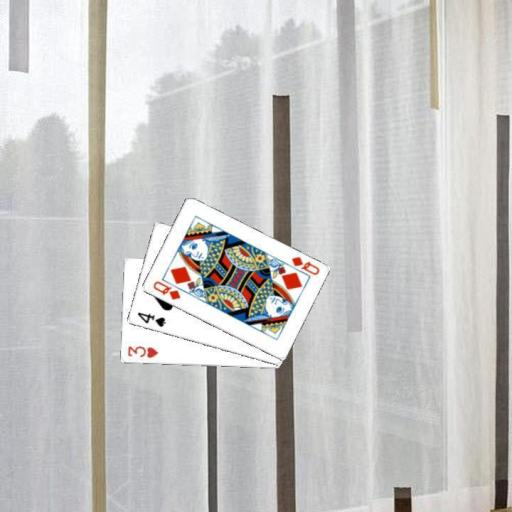card-corner: (149, 278, 182, 302), (288, 253, 321, 277), (124, 343, 160, 359), (135, 310, 167, 328)
